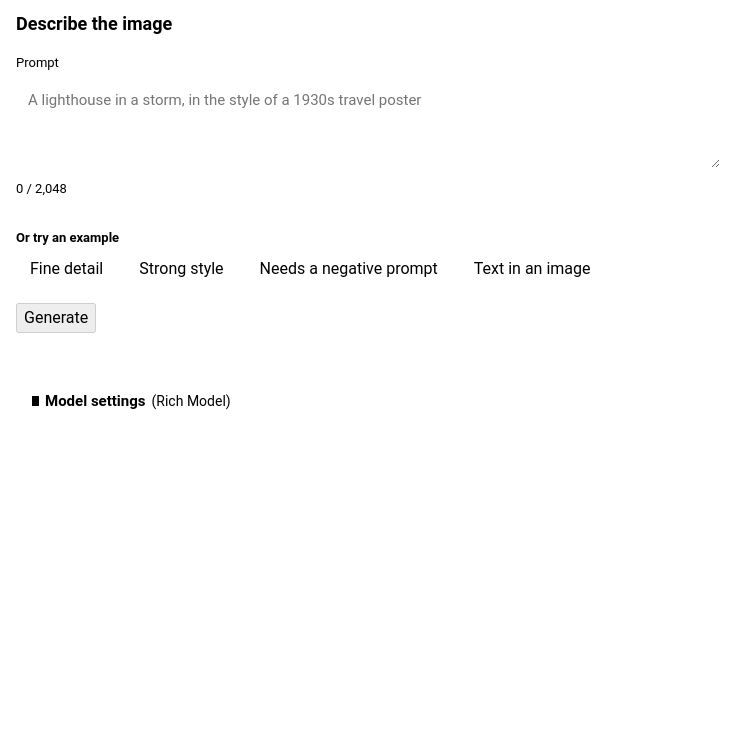
it: the reorganised layout › still allows the settings to be opened and edited
This screenshot has width=736, height=755.
Click the heading "Model settings (Rich Model)": [138, 401] box left=45, top=392, right=231, bottom=410
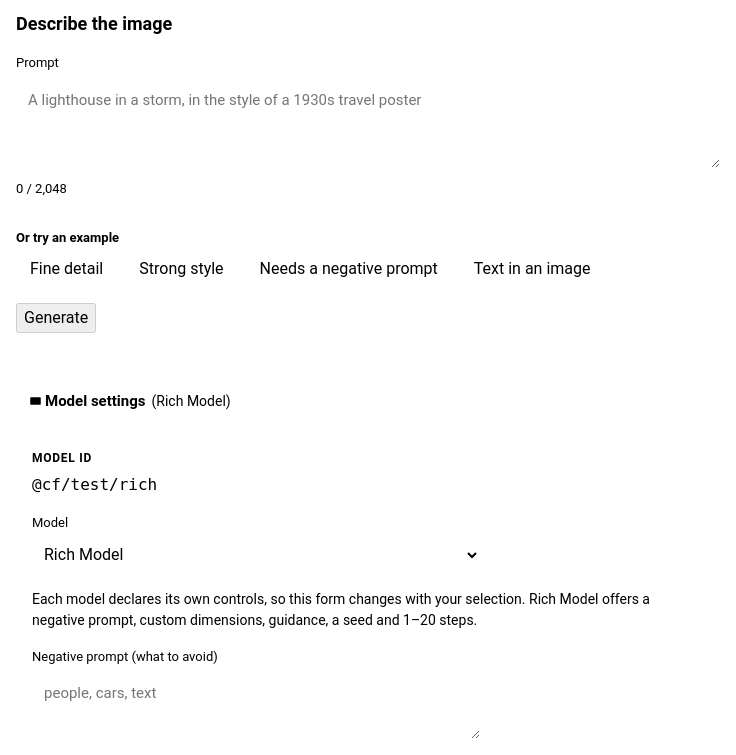
Now the dropdown with id "image-model" is shown, box left=32, top=536, right=480, bottom=572
